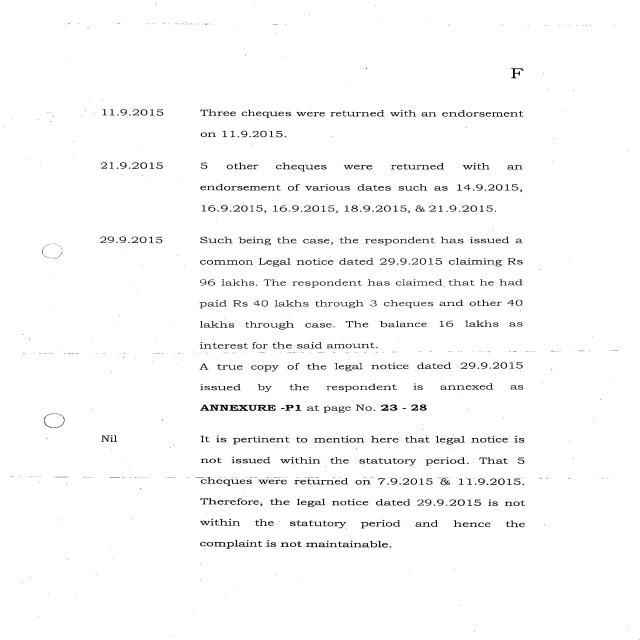page-number: (410, 22, 635, 108)
